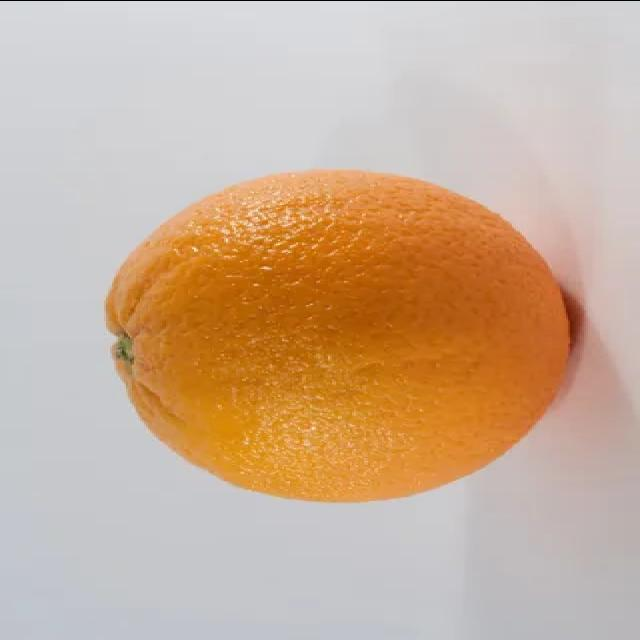orange: (96, 167, 592, 513)
